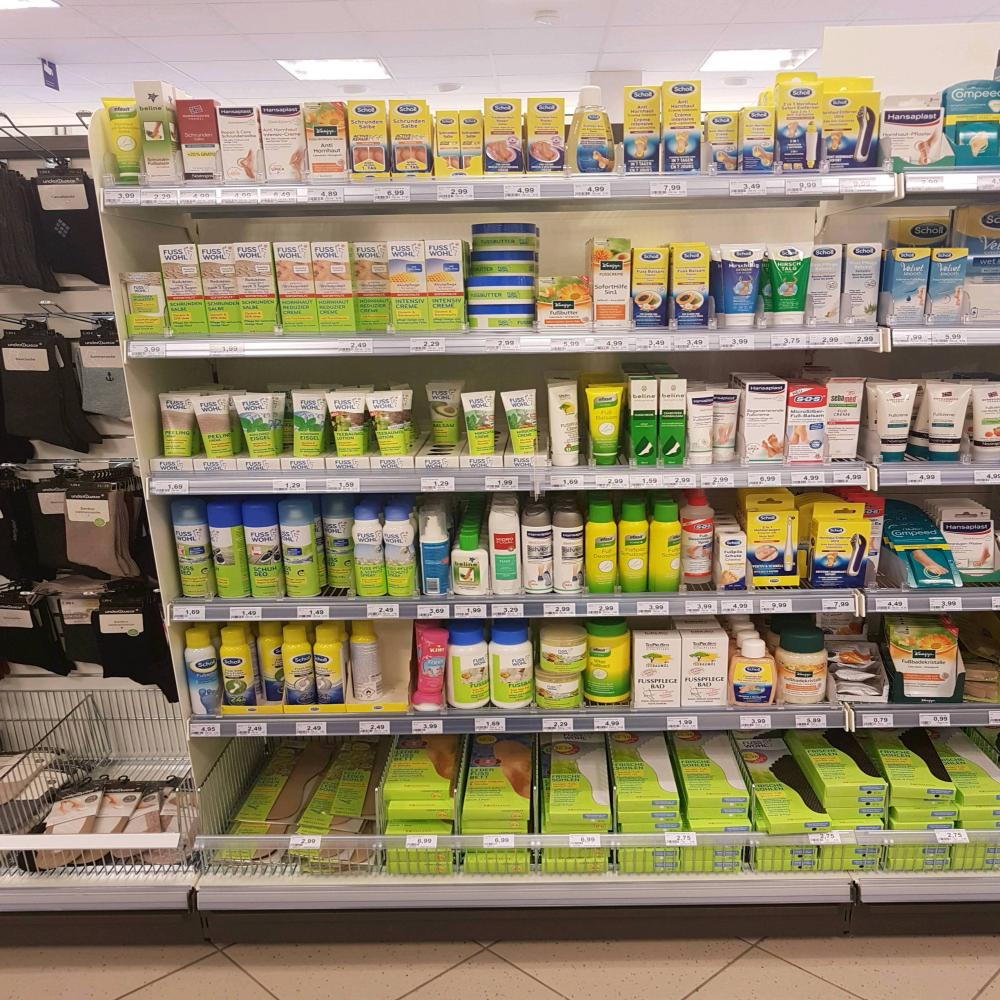shelf: (99, 170, 1000, 205), (167, 591, 1000, 627), (145, 465, 1000, 499), (126, 327, 1000, 360), (186, 707, 1000, 739), (191, 830, 1000, 846)
